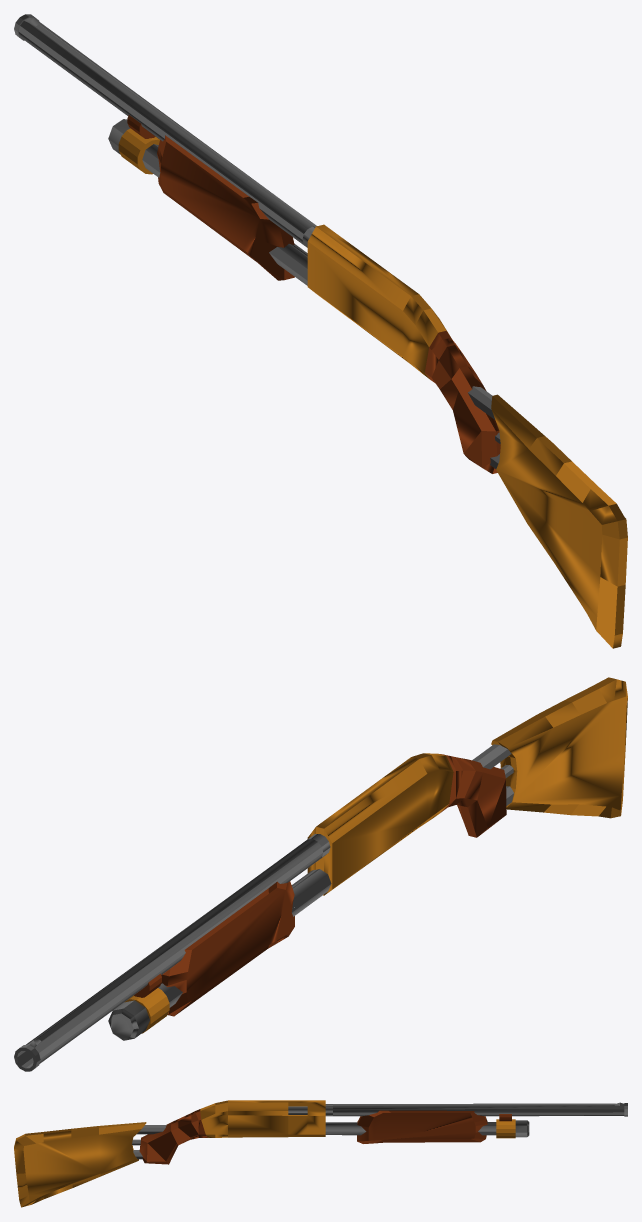
Rendered from escopeta.fbx.
3 renders of one model, top to bottom at view 1: azimuth 30°, elevation 25°; view 2: azimuth 150°, elevation 25°; view 3: azimuth 270°, elevation 25°, orthographic. The views are drawn at different scales.
Visible parts, largest first — view 1: culata, mango_1, cañon, cargador, cargador_2, Cilindro_2; view 2: culata, mango_1, cañon, cargador, cargador_2, Cilindro_2; view 3: culata, mango_1, cargador, cañon, cargador_2, Cilindro_2.
Boxes of the visible parts, box(x1,y1,x2,y2) form: culata: box(468, 386, 627, 648); mango_1: box(307, 224, 500, 473); cañon: box(14, 14, 316, 247); cargador: box(157, 135, 294, 280); cargador_2: box(108, 119, 307, 285); Cilindro_2: box(118, 128, 159, 174); culata: box(472, 677, 627, 818); mango_1: box(307, 753, 506, 895); cañon: box(14, 834, 330, 1071); cargador: box(161, 881, 294, 1016); cargador_2: box(108, 869, 331, 1040); Cilindro_2: box(124, 988, 169, 1033); culata: box(14, 1122, 166, 1207); mango_1: box(139, 1100, 325, 1164); cargador: box(357, 1110, 487, 1143); cañon: box(288, 1102, 627, 1116); cargador_2: box(325, 1120, 529, 1137); Cilindro_2: box(496, 1119, 515, 1138).
Size of the model in its own units: 19.78 by 120 by 635.
